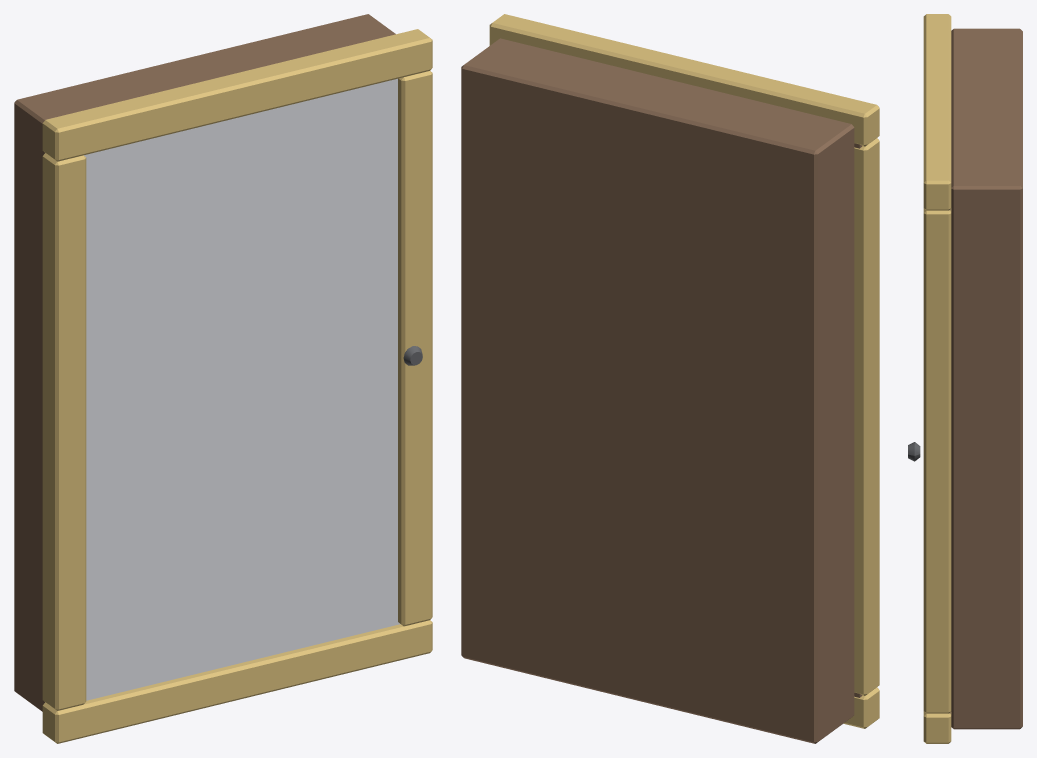
Rendered from escape-room-and-puzzle-venue-mirror-with-hidden-catch-ebdceb76__35797.glb.
3 views of the same model, side by side, from view 1: azimuth 30°, elevation 25°; view 2: azimuth 150°, elevation 25°; view 3: azimuth 270°, elevation 25° (orthographic). The views are drawn at different scales.
Parts seen in each view (by area): view 1: mirror/metal, mirror/brass, mirror-with-hidden-catch; view 2: mirror-with-hidden-catch, mirror/brass; view 3: mirror-with-hidden-catch, mirror/brass.
Boxes of the visible parts, bbox=[...] form: mirror/metal: bbox=[84, 78, 400, 700]; mirror/brass: bbox=[42, 29, 432, 743]; mirror-with-hidden-catch: bbox=[14, 14, 395, 711]; mirror-with-hidden-catch: bbox=[461, 38, 854, 743]; mirror/brass: bbox=[489, 14, 879, 728]; mirror-with-hidden-catch: bbox=[951, 28, 1022, 729]; mirror/brass: bbox=[923, 14, 951, 743].
Size of the model in its own units: 0.7201 by 1.12 by 0.207.
